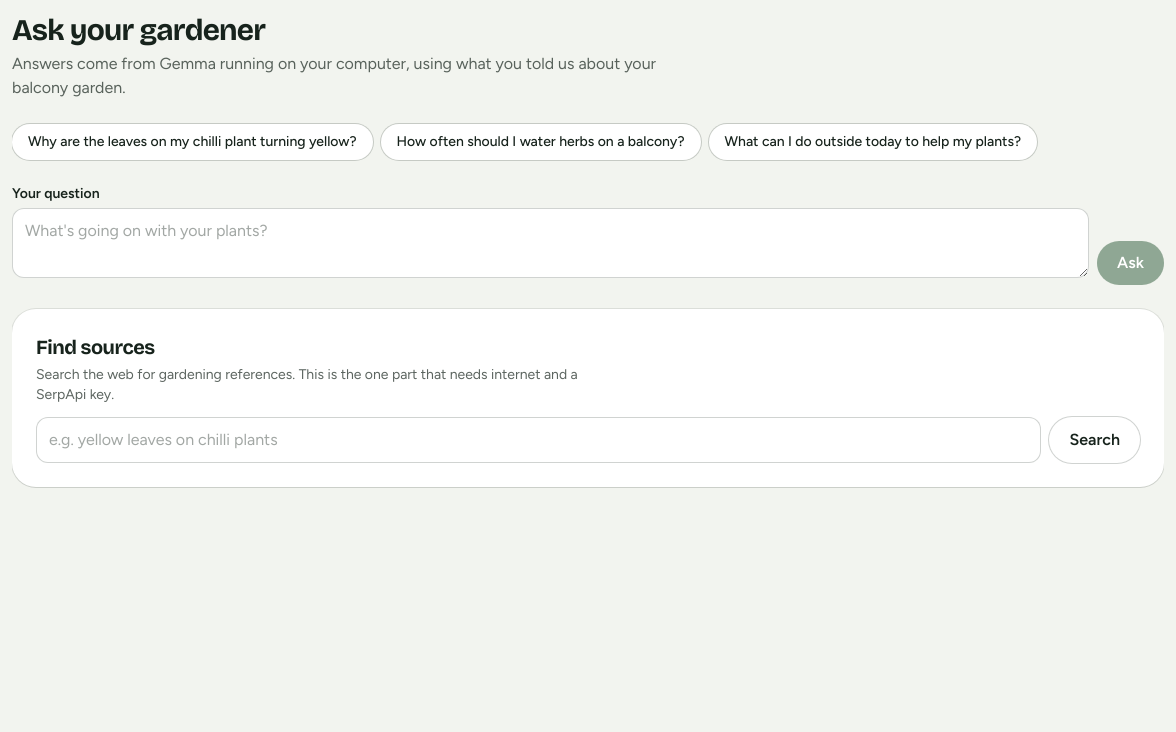
AIChat › turns a next step into a task
This screenshot has width=1176, height=732.
Type "Tips?" into the text box labelled "Your question".
click(551, 243); type("Tips?")  # box [12, 208, 1089, 278]
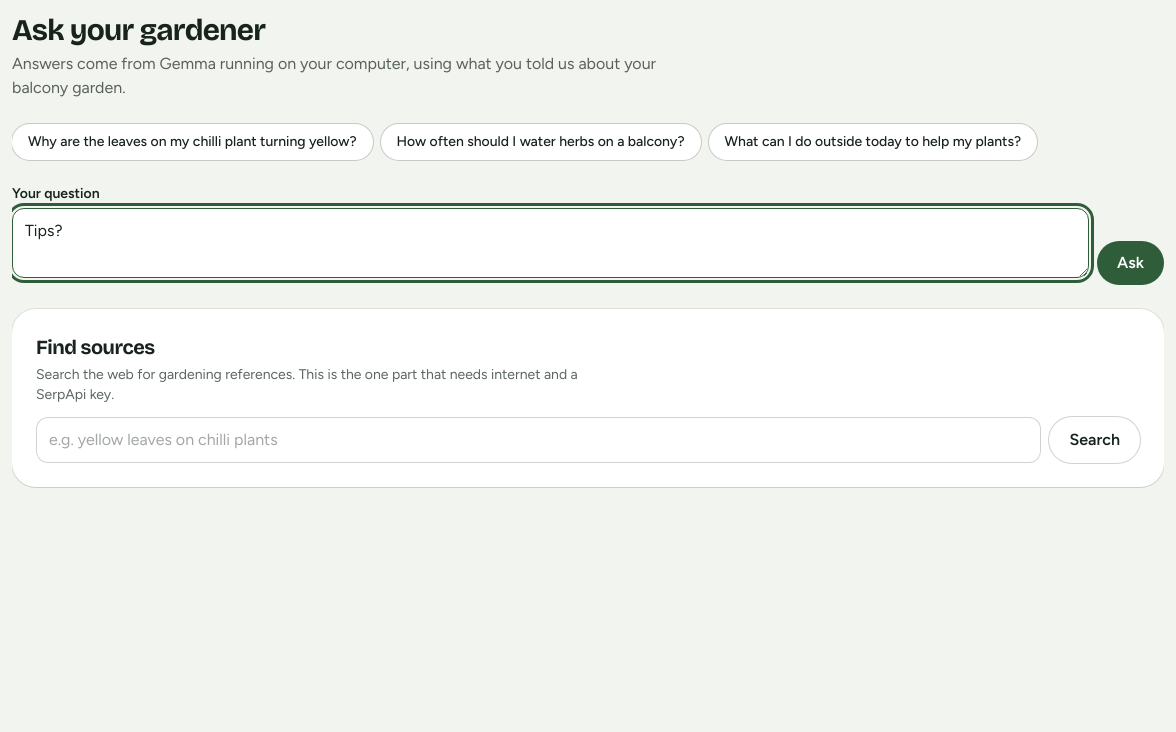
Click the button "Ask".
click(1131, 263)  # box [1097, 241, 1164, 285]
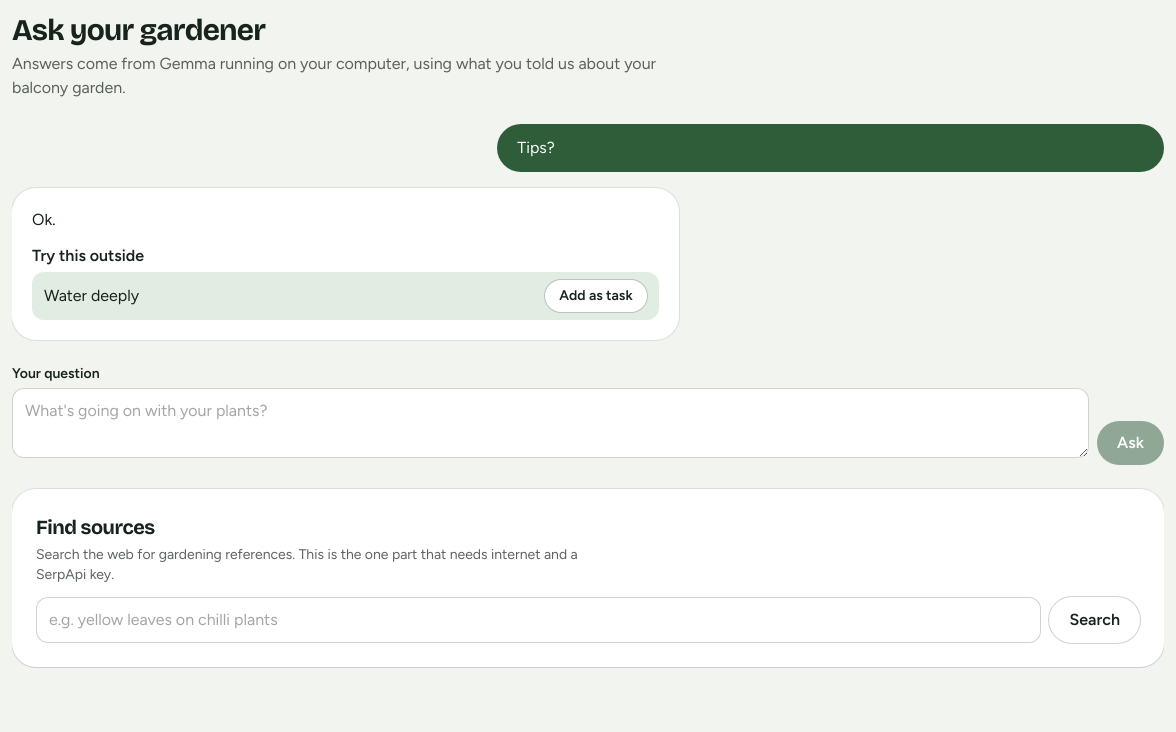
Click the button "Add as task".
click(596, 296)  # box [545, 280, 647, 312]
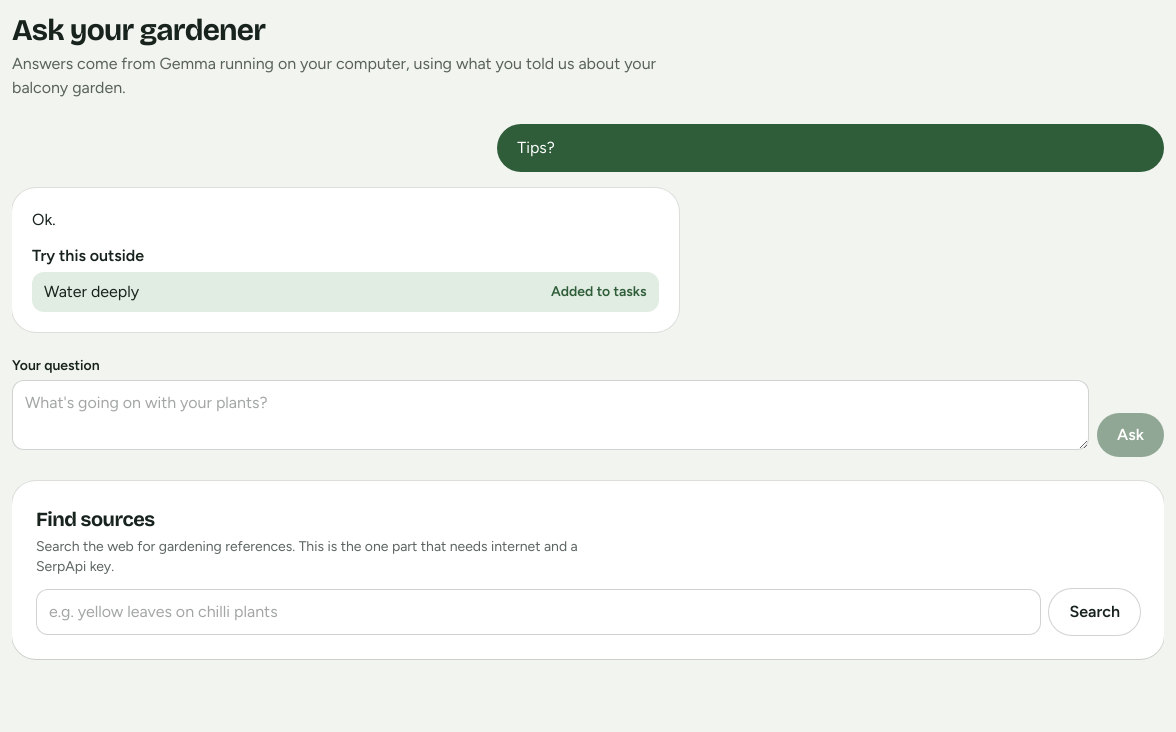
Check: the text "Added to tasks" is shown, box [551, 282, 647, 302]
